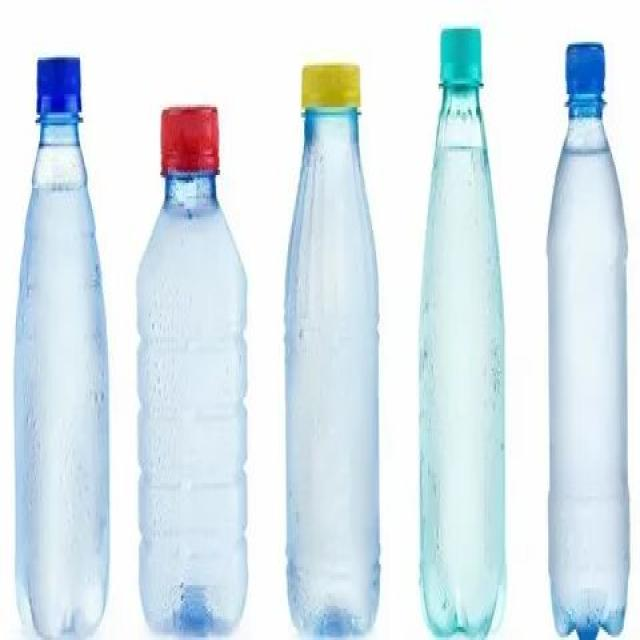blue: (283, 104, 380, 640), (136, 170, 247, 637), (13, 112, 108, 634), (547, 111, 630, 638)
